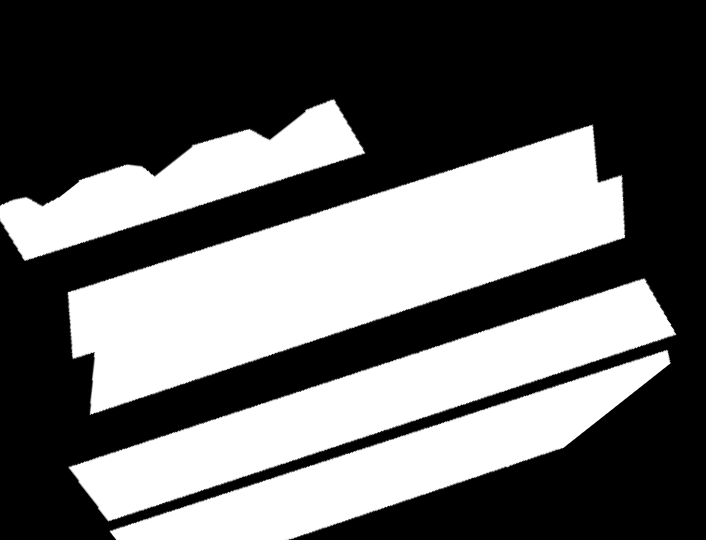parkingspot: (68, 125, 625, 415), (69, 279, 676, 521), (110, 350, 671, 540), (0, 99, 365, 261)
